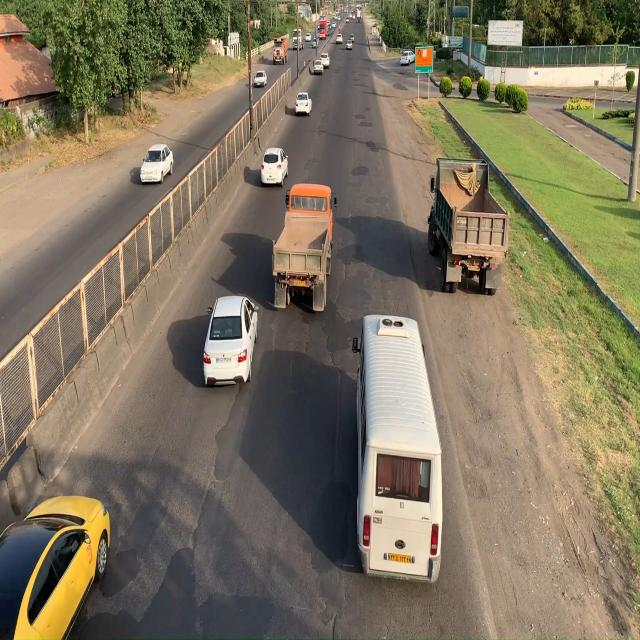Bus: (356, 313, 444, 574)
Truck: (425, 160, 510, 303), (282, 180, 334, 300)
cars: (0, 484, 113, 640), (202, 289, 260, 390), (139, 138, 174, 184), (260, 139, 288, 187)
